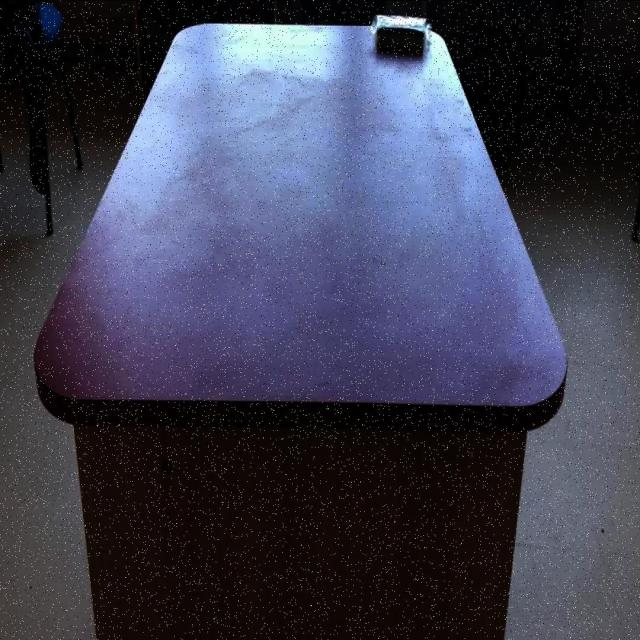Sponge: (32, 17, 567, 433)
